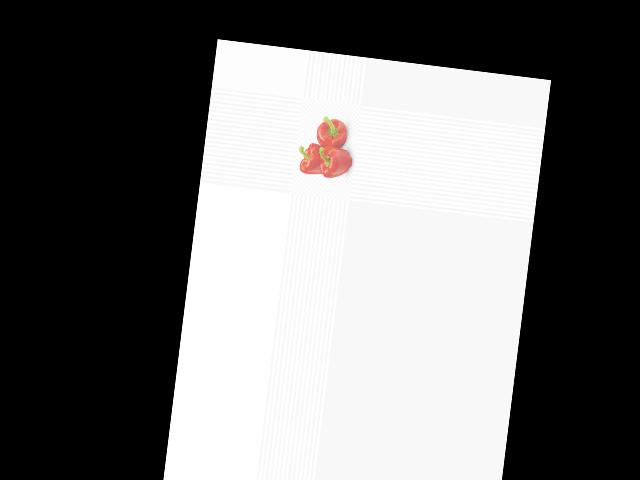bell_pepper: (310, 113, 352, 153)
